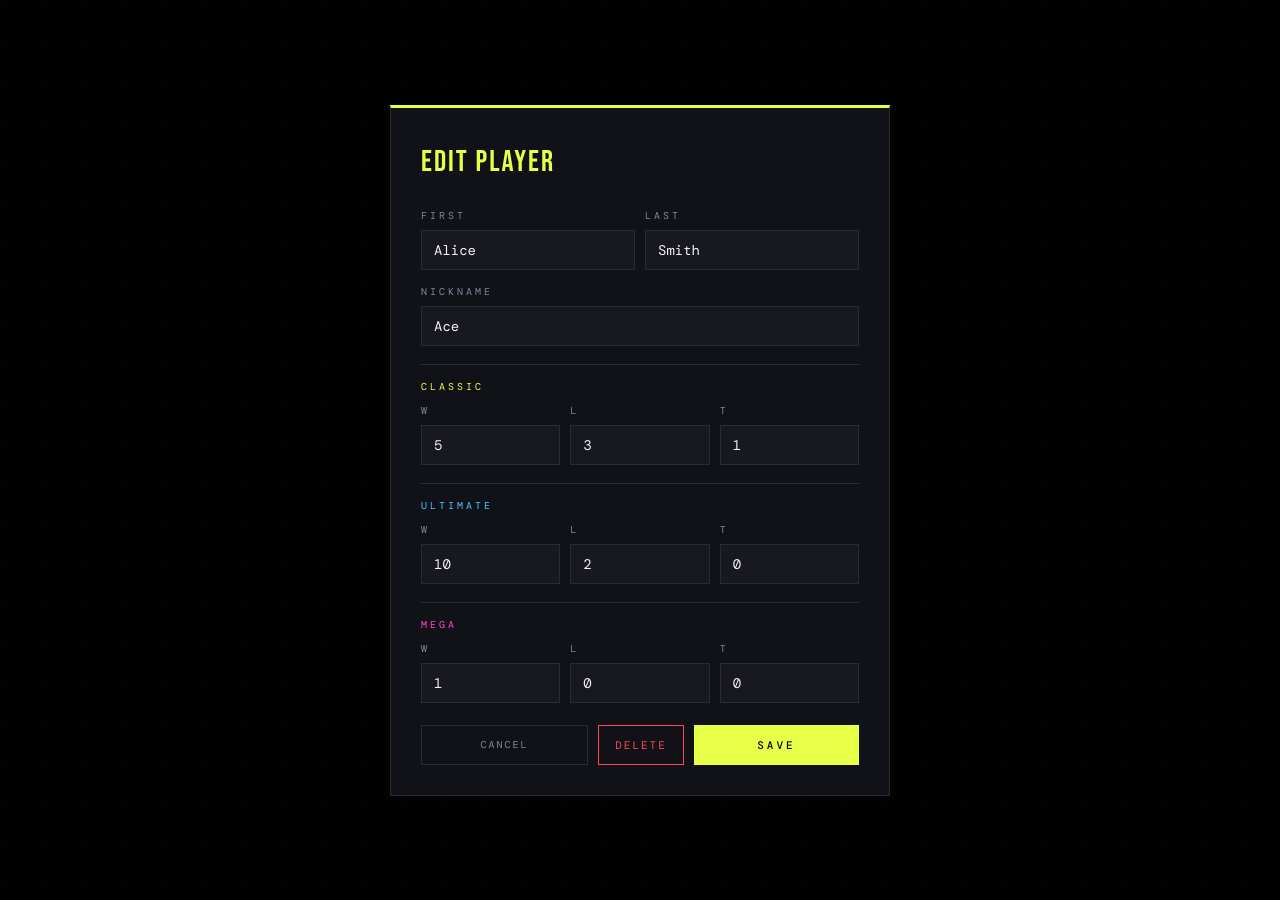
it: EditModal › clamps negative stat values to 0
Find one of the W inputs (Classic W should be 5)
Replace the text in the 1st number field showing "5" with "-10" at x=491, y=444, box [421,424,560,464]
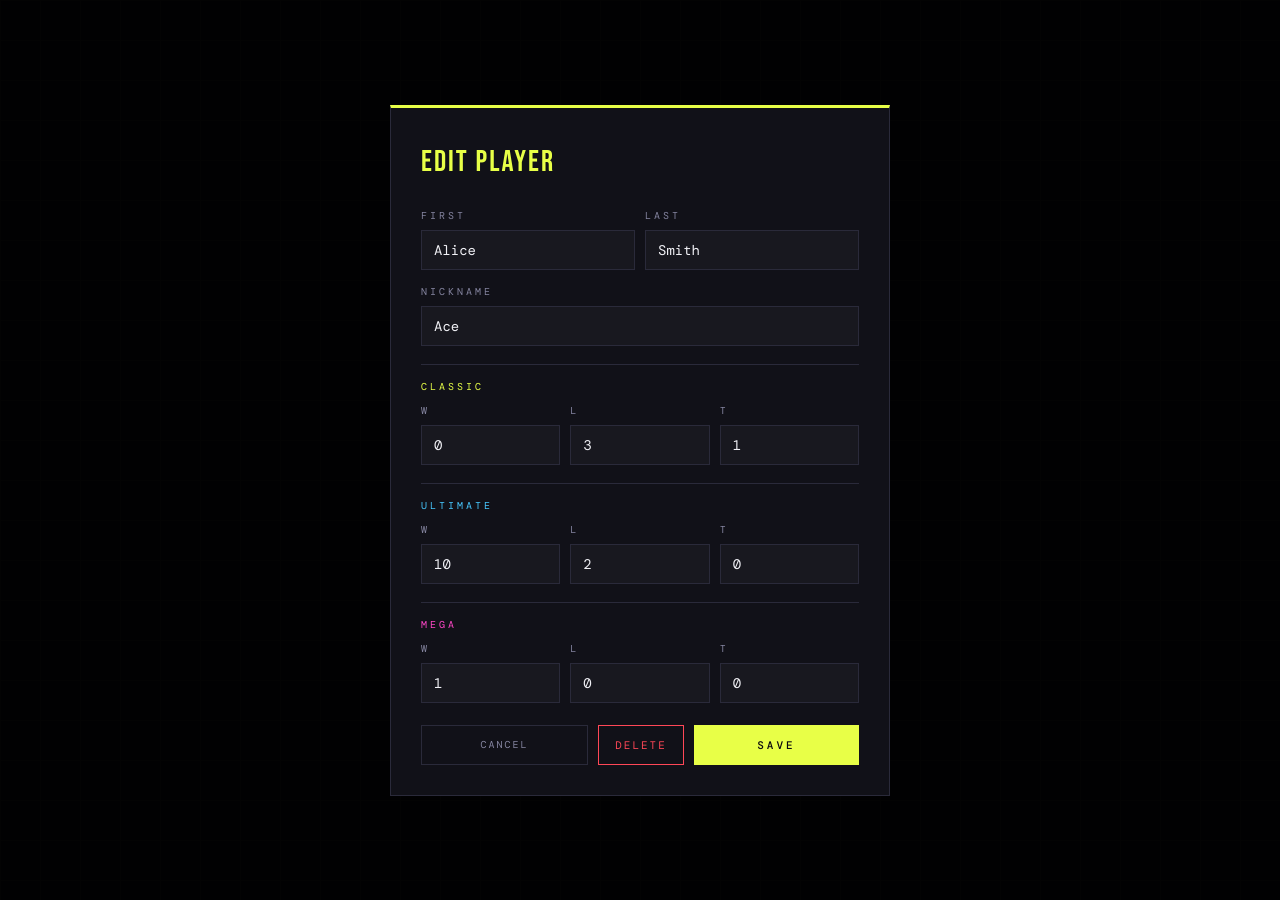
expect the 1st number field showing "5" holds "0": met, box [421,424,560,464]
